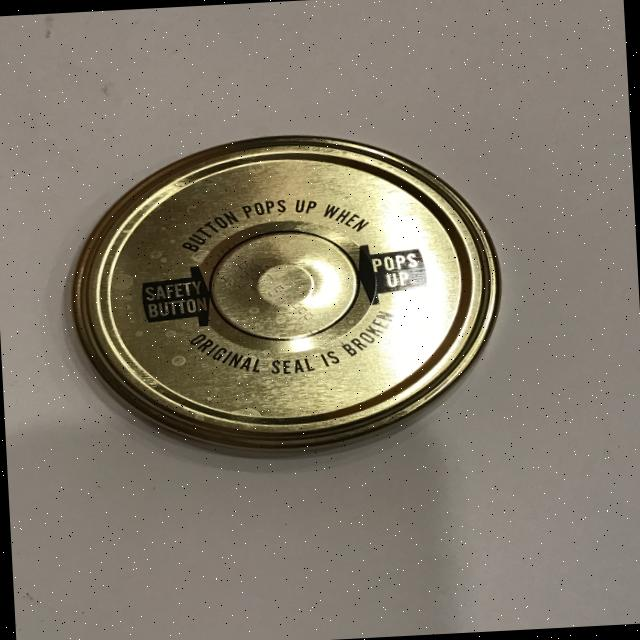metal: (62, 123, 510, 467)
